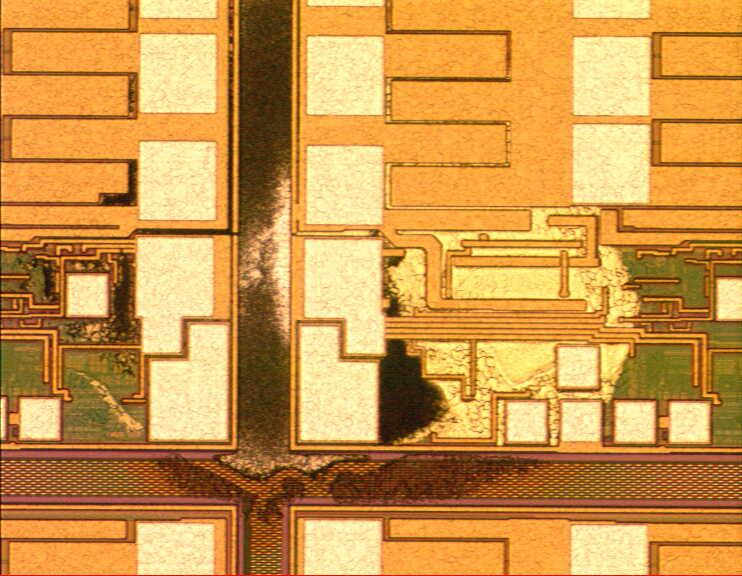BLOCK ETCH: (36, 1, 650, 532)
